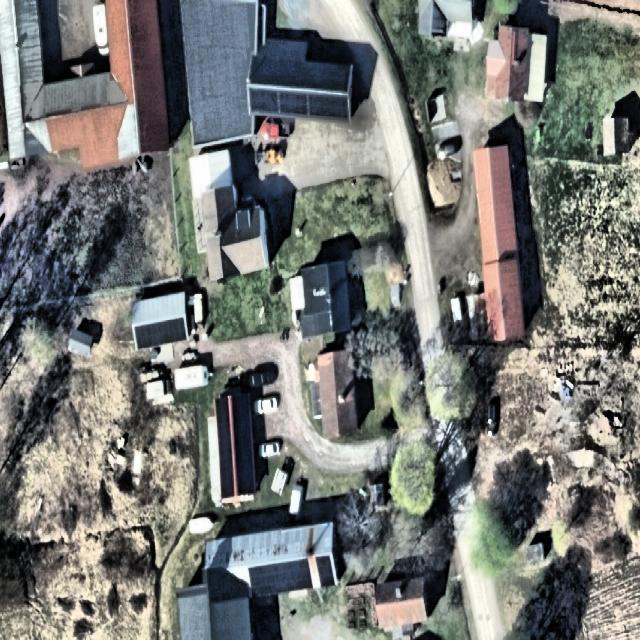roof_pv: (244, 557, 316, 596), (212, 391, 236, 506), (231, 389, 256, 497), (134, 316, 192, 351), (308, 92, 349, 126), (310, 553, 338, 590), (248, 88, 282, 117), (280, 90, 309, 119)
